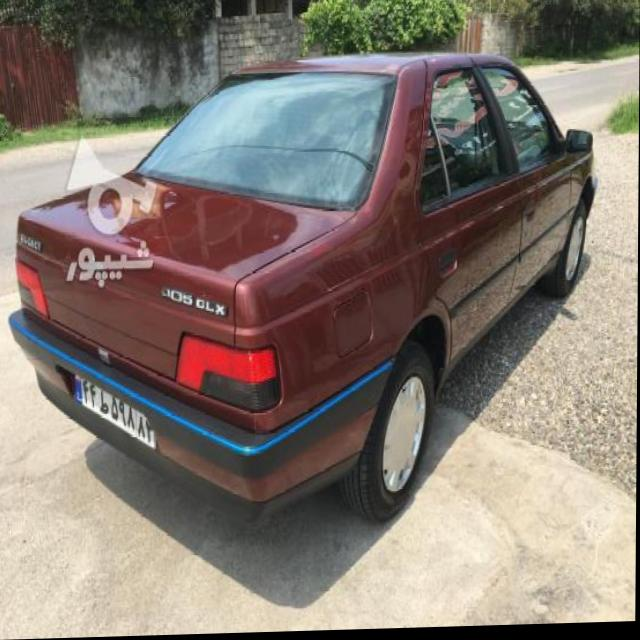licence: (71, 367, 161, 454)
